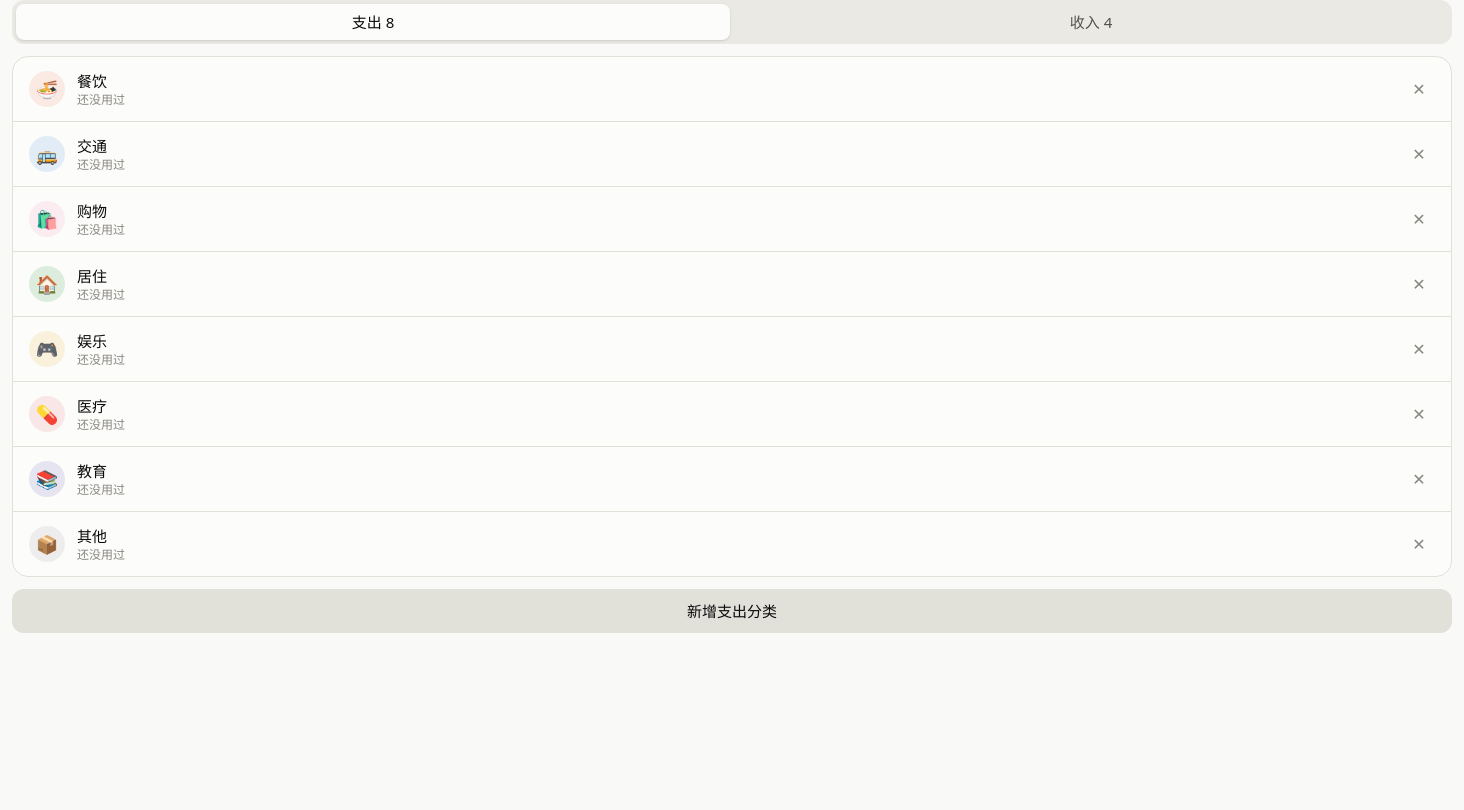
Scenario: 列表 › 页签上带数量，切到收入看收入分类
This screenshot has width=1464, height=810.
Click the button "收入 4" at (1091, 22), box [734,4,1448,40]
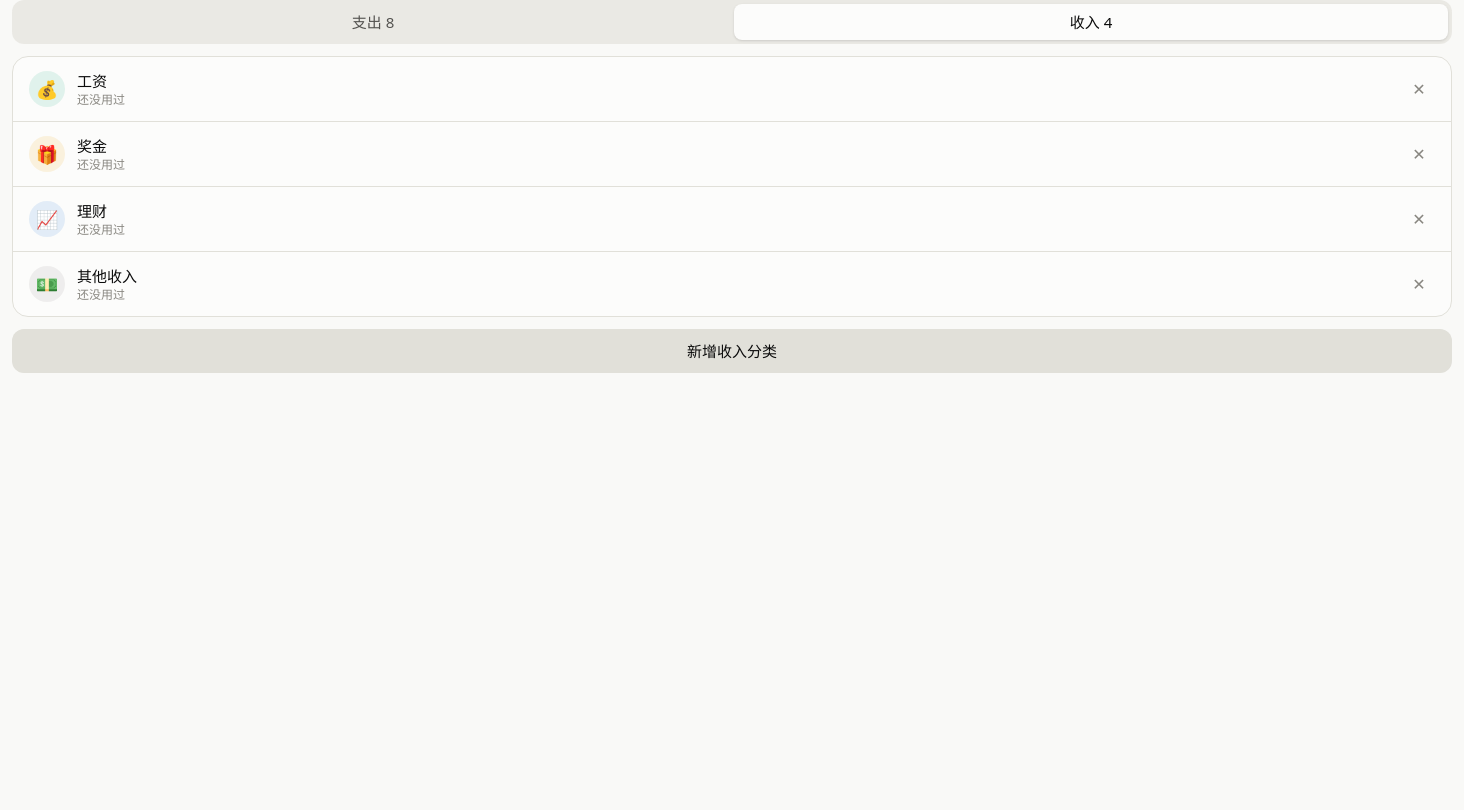
Check: the text "工资" is shown, box [77,71,107,91]
Check: the text "餐饮" is gone
